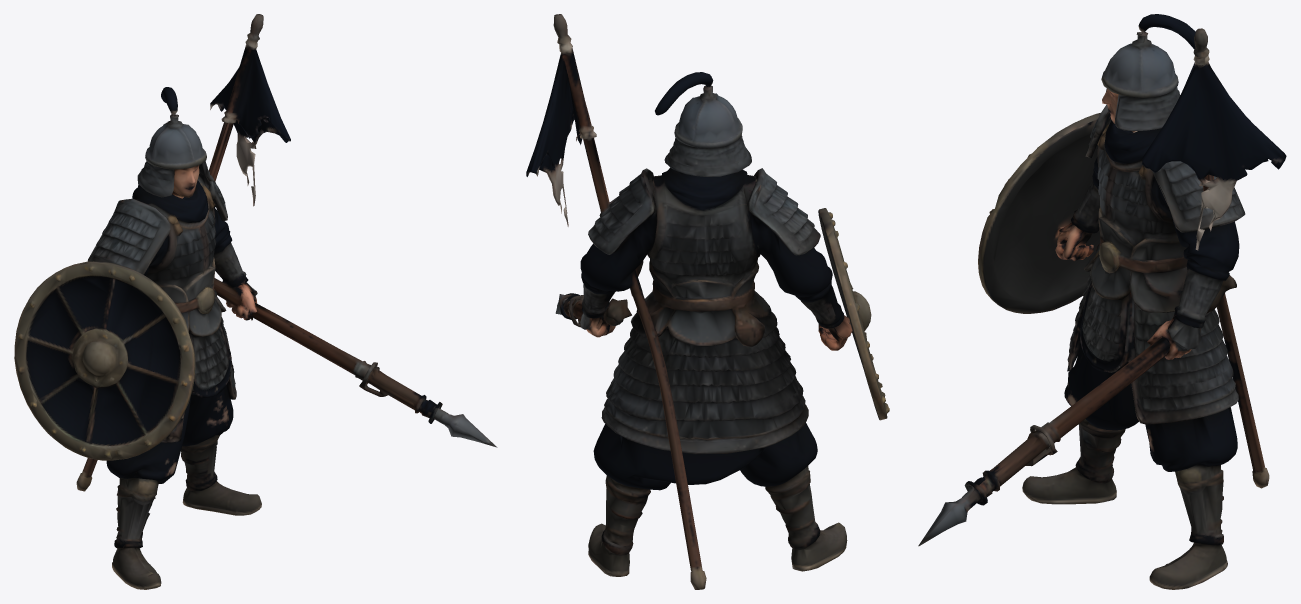
File: pawn-infantry-black-hy3-v1.glb
The picture shows the model from 3 angles, left to right: view 1: azimuth 30°, elevation 25°; view 2: azimuth 150°, elevation 25°; view 3: azimuth 270°, elevation 25°; orthographic projection. The views are drawn at different scales.
Visible parts, largest first — view 1: node_0; view 2: node_0; view 3: node_0.
Boxes of the visible parts, left/top/right/bottom form: node_0: left=14, top=14, right=497, bottom=589; node_0: left=526, top=14, right=889, bottom=589; node_0: left=918, top=14, right=1286, bottom=589.
Bounding box in the file's own units: 1.44 × 1.72 × 1.
1 material, 1 textured.
